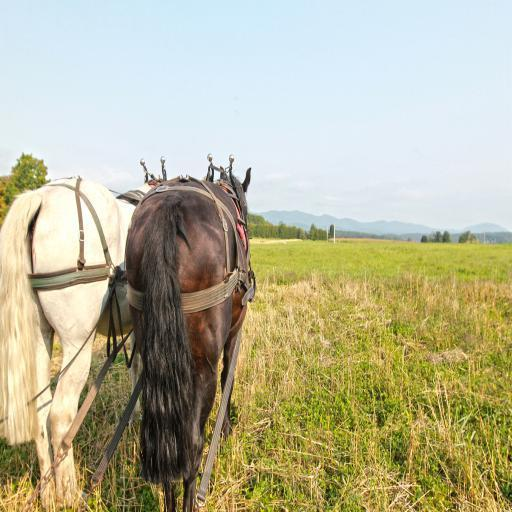horse: (0, 180, 163, 512), (122, 162, 252, 512)
